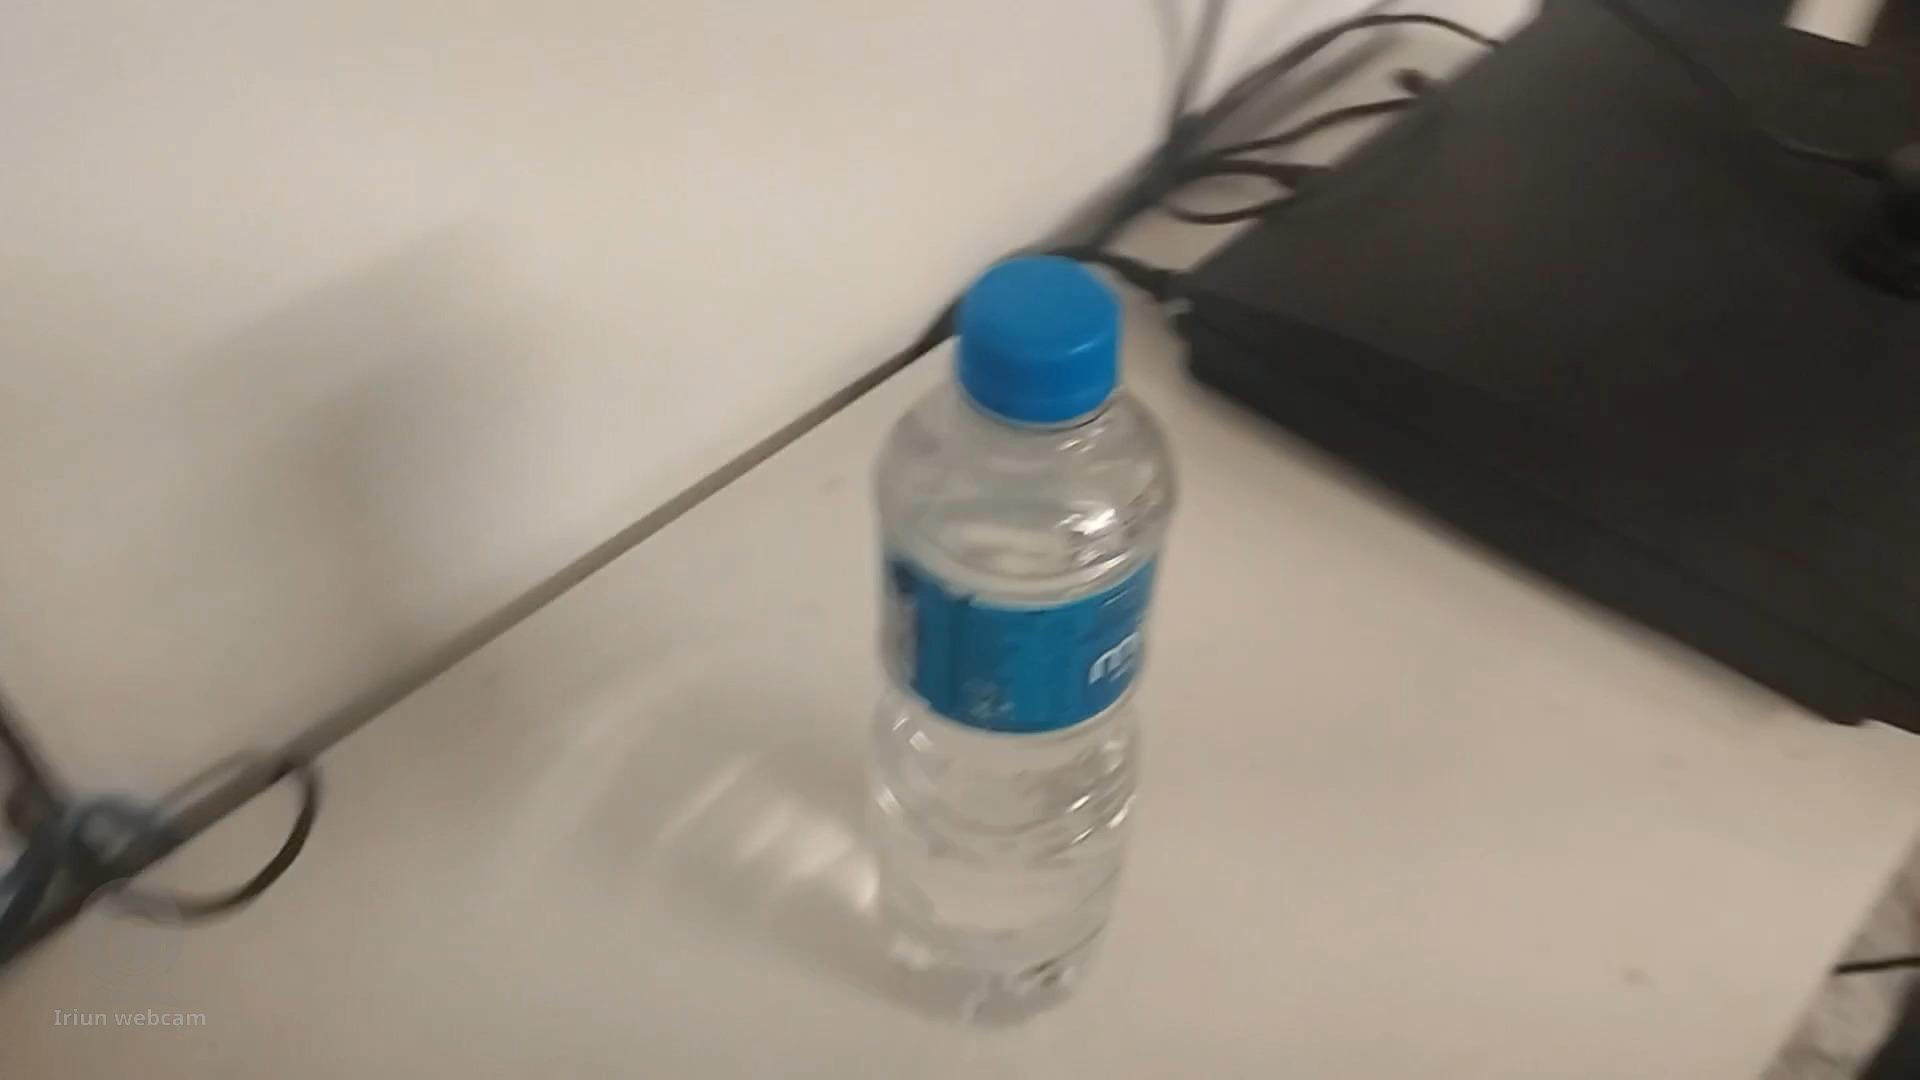agua: (868, 251, 1170, 1005)
